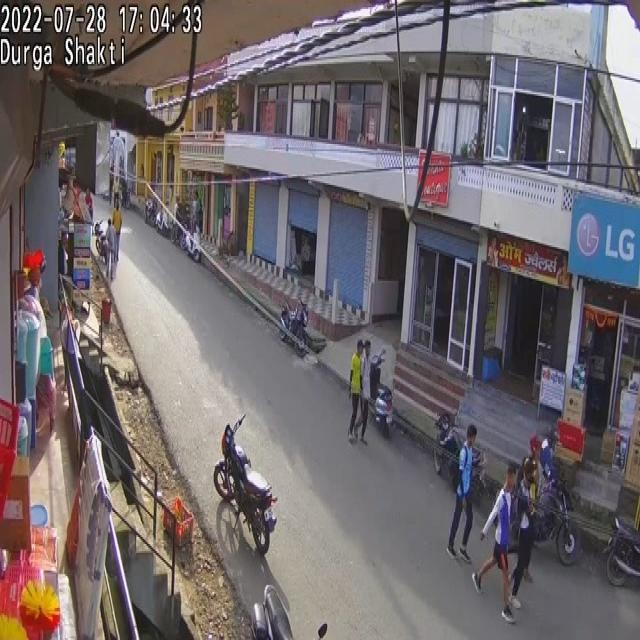non-fight: (473, 462, 520, 624), (503, 454, 538, 604), (447, 422, 476, 558), (356, 340, 374, 443), (482, 484, 510, 542), (111, 201, 122, 263), (105, 218, 116, 280), (192, 194, 202, 235)
